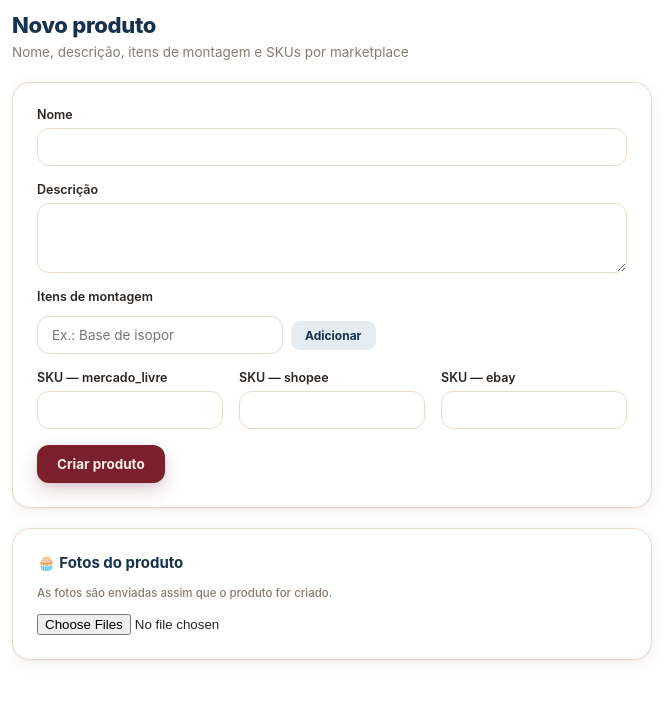
Test: ProductForm — criação › mostra erro retornado pelo backend ao criar
Check: the field with test id "product-name" is shown, box [37,128,627,166]
Click the button with test id "product-submit" at (101, 464), box [37,445,165,483]
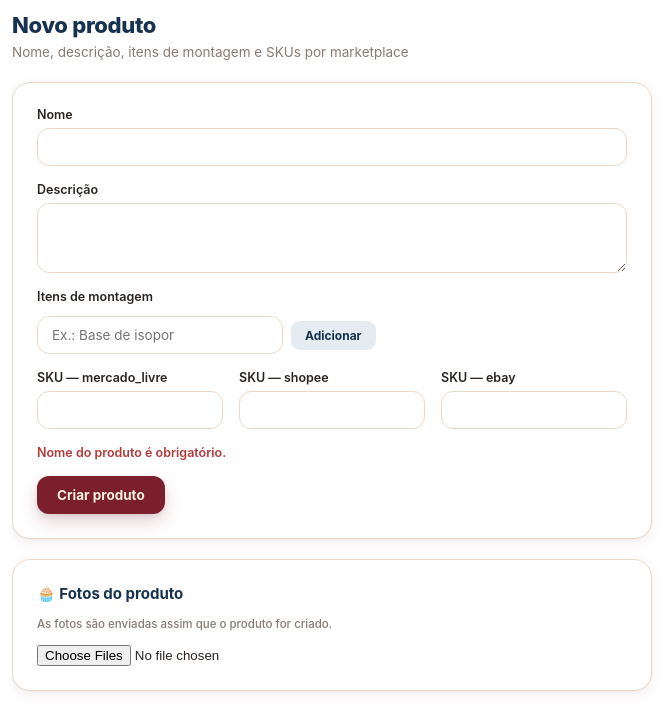
Check: the text "Nome do produto é obrigatório." is shown, box [37,445,226,460]
